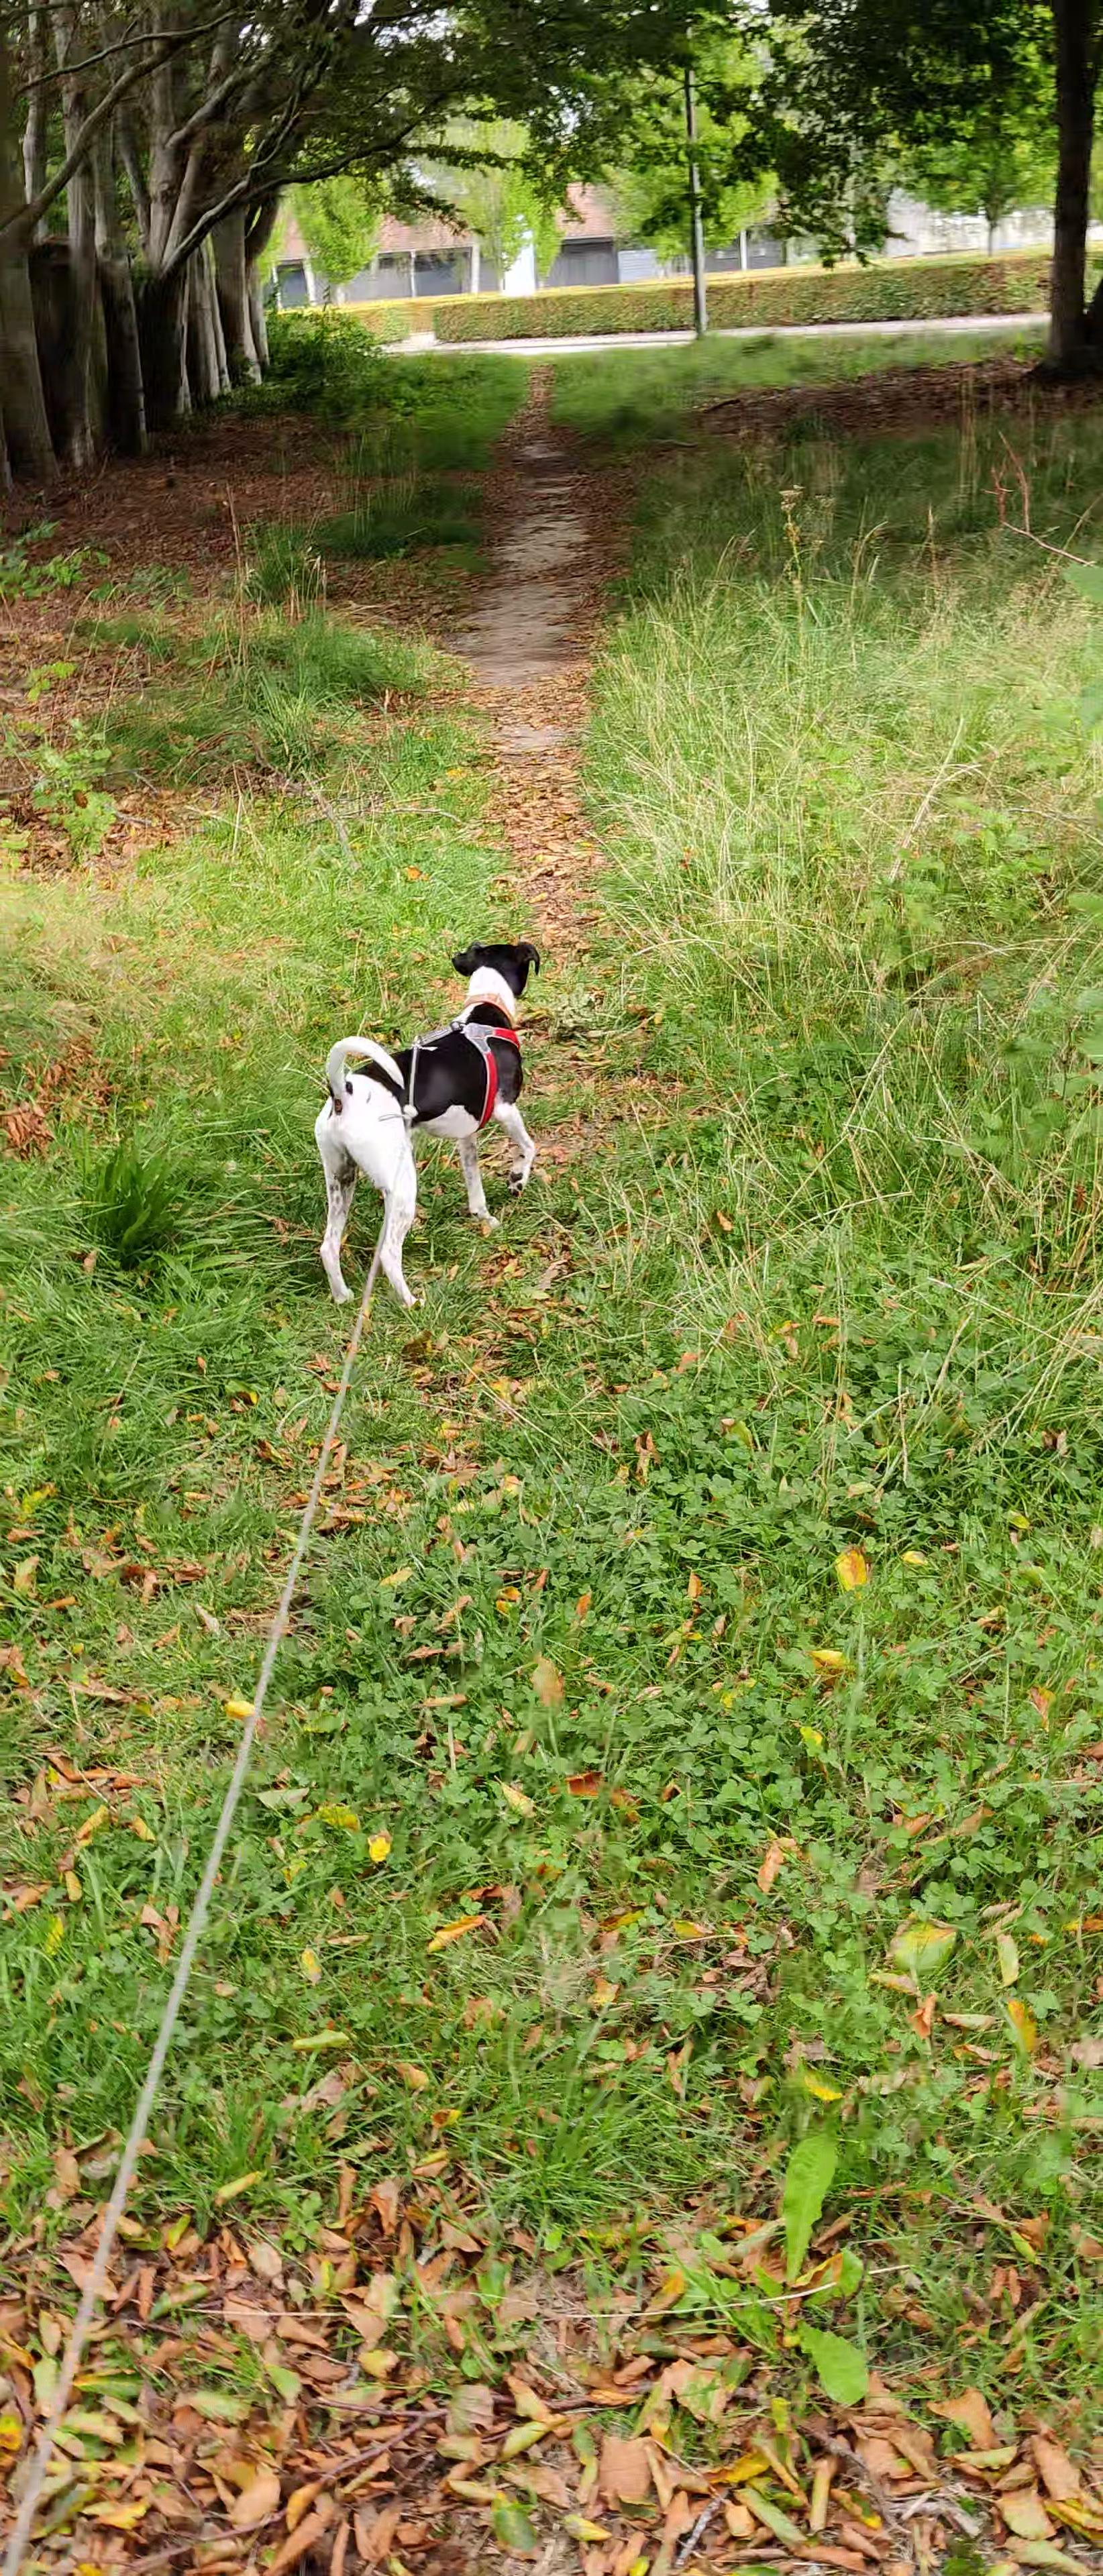Dog: (309, 938, 544, 1318)
